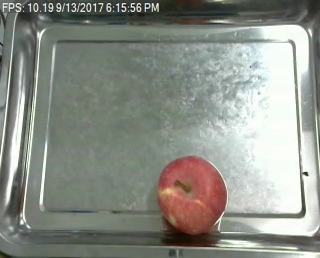Apple: (155, 154, 228, 237)
